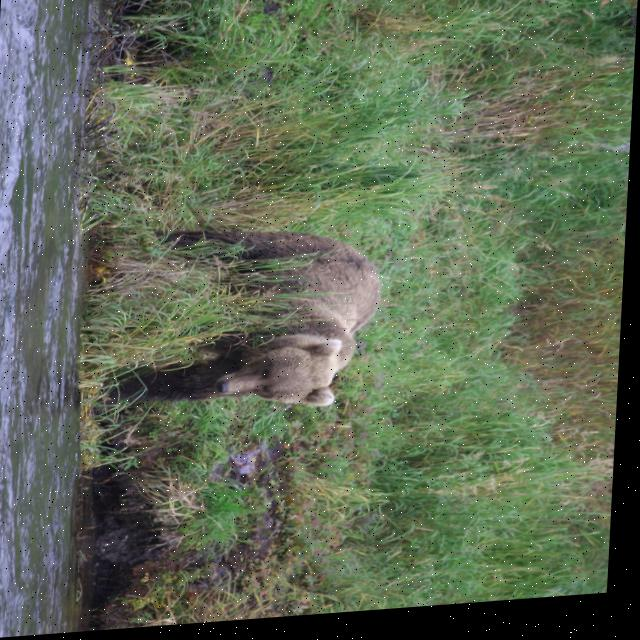bear face: (144, 231, 386, 421)
